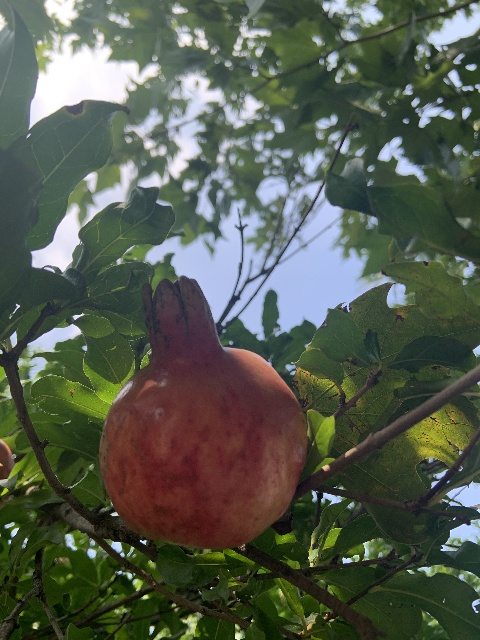ripe: (98, 276, 308, 549)
